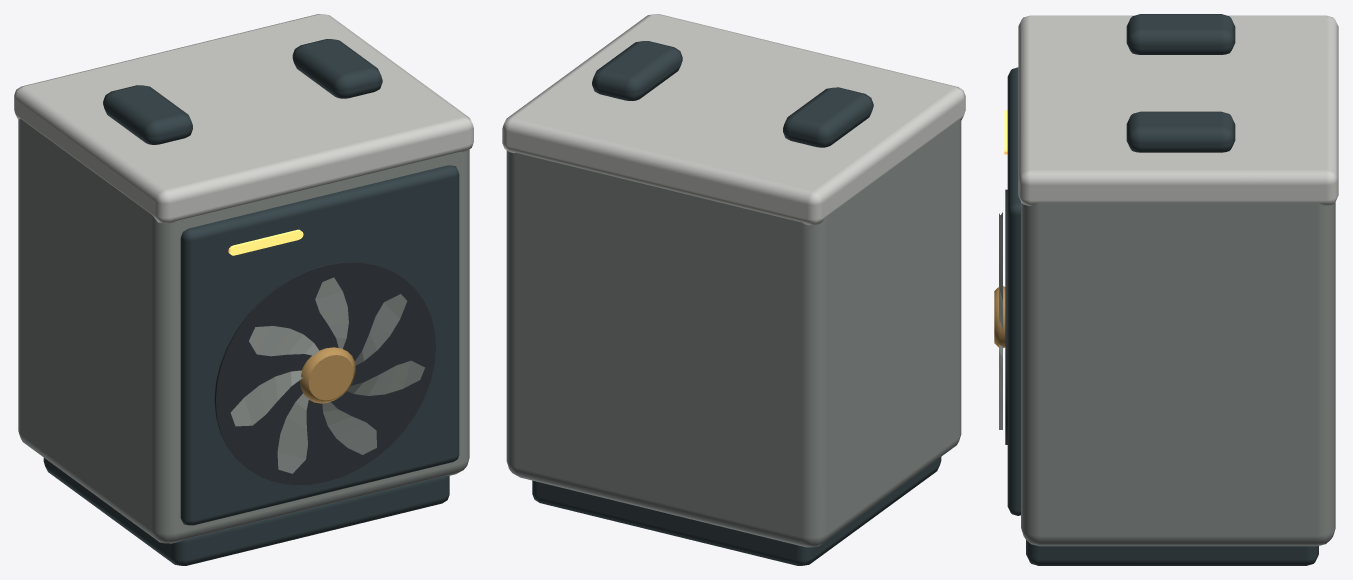
The model's file is kit_hw_gpu_v1.glb.
3 renders of one model, left to right at view 1: azimuth 30°, elevation 25°; view 2: azimuth 150°, elevation 25°; view 3: azimuth 270°, elevation 25°, orthographic. The views are drawn at different scales.
Visible parts, largest first — view 1: body, provider, fan, status_led; view 2: body, provider; view 3: body, provider, fan.
Part boxes in pixels (x1,y1,x2,y2): body: (18,39,469,565); provider: (14,14,473,223); fan: (230,277,424,473); status_led: (228,229,303,255); body: (506,41,961,565); provider: (502,14,965,225); body: (1005,14,1335,565); provider: (1018,15,1338,206); fan: (994,212,1005,429).
Bounding box in the file's own units: 0.9 × 1.1 × 0.8.
